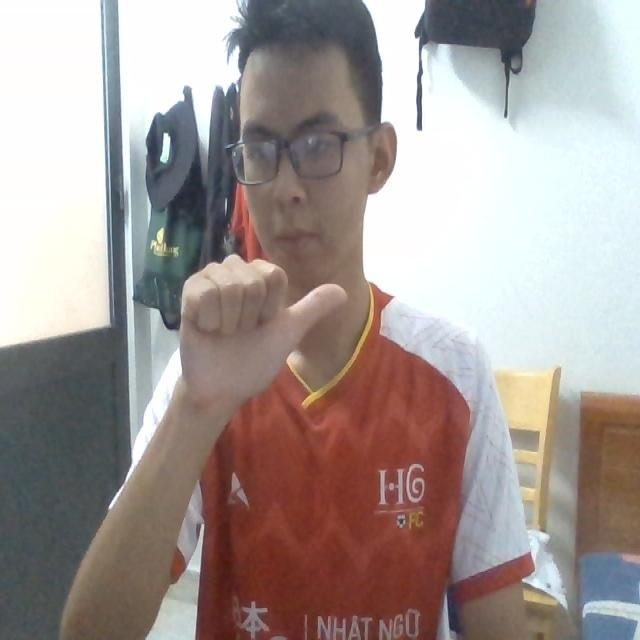A: (172, 254, 350, 412)
